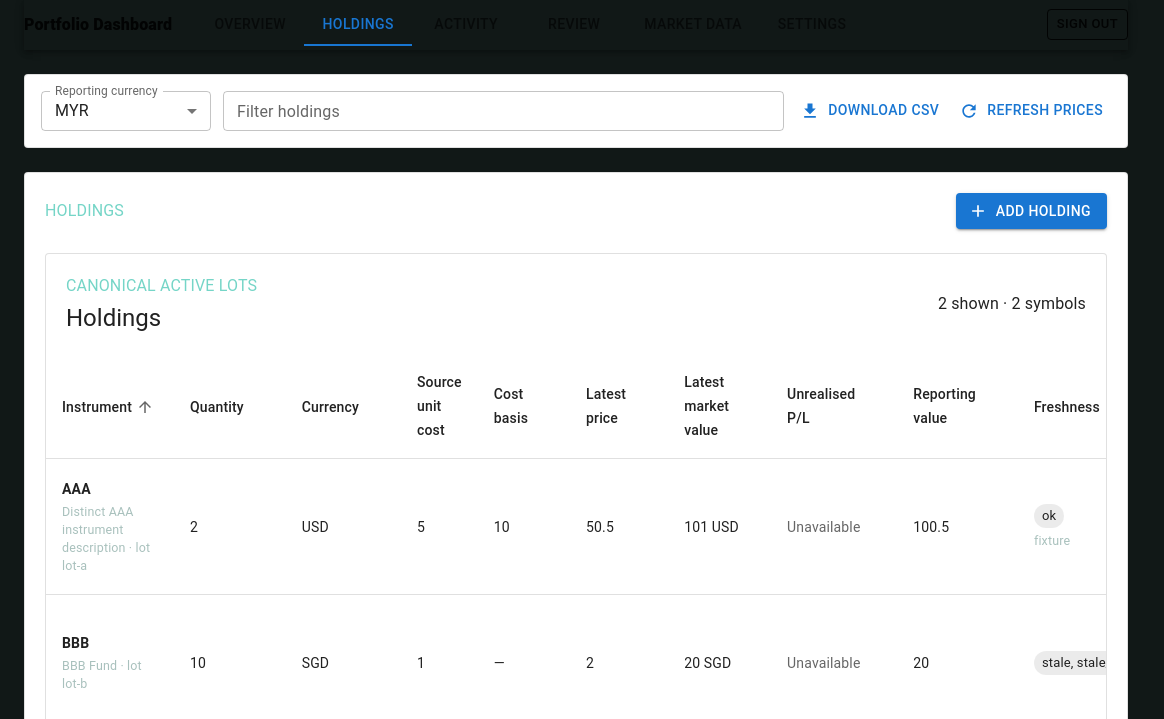
Test: Portfolio Dashboard › rejects a successful non-CSV response before blob creation
Click the button "Download CSV": x=872, y=111 [796,92,947,129]
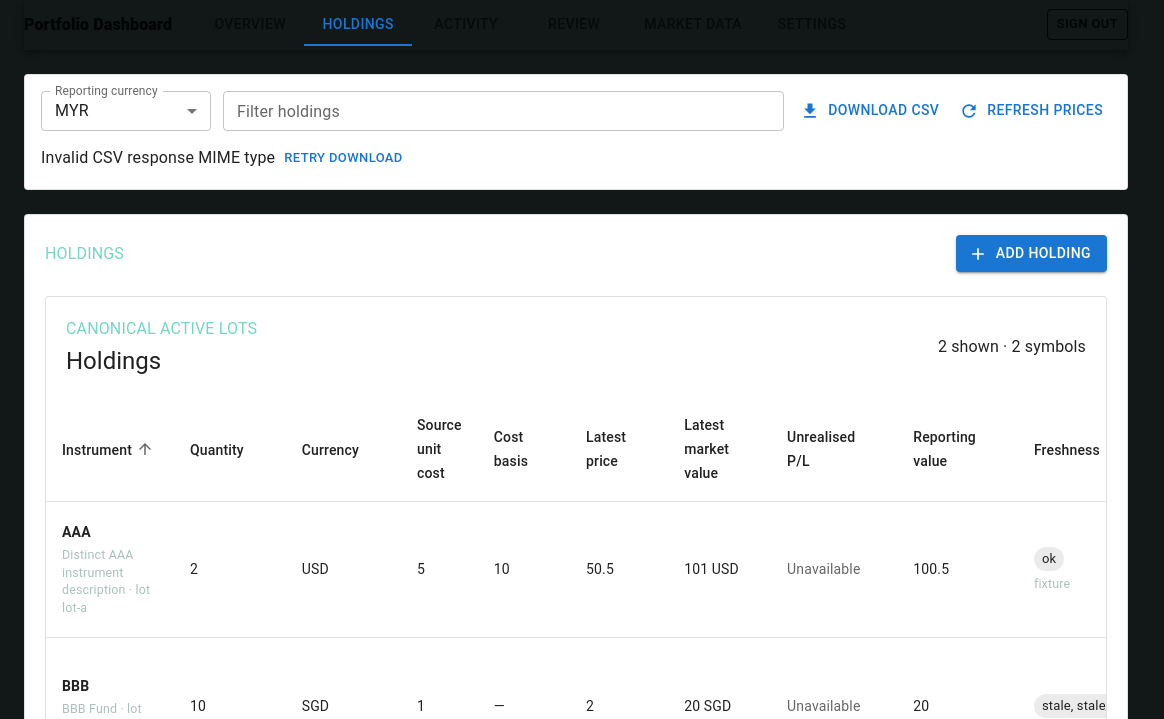
Check: the message shows "CSV response", box [41,147,275,166]
